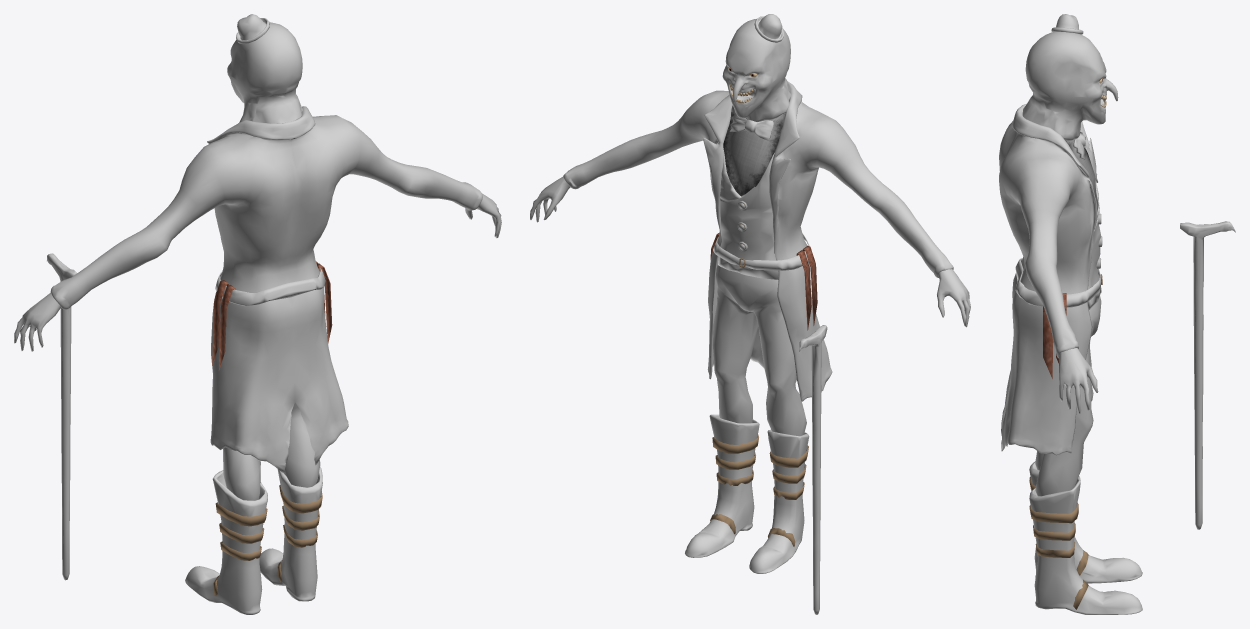
File: SHOWMAKER.obj
3 renders of one model, left to right at view 1: azimuth 30°, elevation 25°; view 2: azimuth 150°, elevation 25°; view 3: azimuth 270°, elevation 25°, orthographic. The views are drawn at different scales.
Parts seen in each view (by area): view 1: ceket_low.001_mesh.007, kafa_low.001_mesh.018, ayak_low.001_mesh.003, ayak_low.002_mesh.034, pantolon_low.001_mesh.020, baston_low.001_mesh.006, kusak_low.001_mesh.019, deri2.001_Plane.001, el_low.002_mesh.033, deri2.002_Plane.003, sapka_low.001_mesh.024; view 2: ceket_low.001_mesh.007, pantolon_low.001_mesh.020, kafa_low.001_mesh.018, ayak_low.002_mesh.034, yelek1low.001_mesh.028, ayak_low.001_mesh.003, iç_low.001_mesh.015, baston_low.001_mesh.006, deri2.002_Plane.003, deri2.001_Plane.001, el_low.002_mesh.033, kusak_low.001_mesh.019 (+3 smaller); view 3: ceket_low.001_mesh.007, kafa_low.001_mesh.018, ayak_low.002_mesh.034, baston_low.001_mesh.006, pantolon_low.001_mesh.020, ayak_low.001_mesh.003, el_low.001_mesh.009, deri2.002_Plane.003, kusak_low.001_mesh.019, yelek1low.001_mesh.028, deri3.001_Cube.009, sapka_low.001_mesh.024 (+1 smaller).
Part boxes in pixels (x1,y1,x2,y2): ceket_low.001_mesh.007: (50,106,482,473); kafa_low.001_mesh.018: (227,22,302,123); ayak_low.001_mesh.003: (185,470,267,614); ayak_low.002_mesh.034: (259,466,322,601); pantolon_low.001_mesh.020: (223,402,320,500); baston_low.001_mesh.006: (47,253,76,580); kusak_low.001_mesh.019: (215,268,325,305); deri2.001_Plane.001: (213,502,267,595); el_low.002_mesh.033: (14,292,60,351); deri2.002_Plane.003: (277,485,322,582); sapka_low.001_mesh.024: (236,14,269,43); ceket_low.001_mesh.007: (563,81,953,401); pantolon_low.001_mesh.020: (713,265,806,436); kafa_low.001_mesh.018: (722,19,791,121); ayak_low.002_mesh.034: (685,414,759,557); yelek1low.001_mesh.028: (718,153,778,279); ayak_low.001_mesh.003: (749,429,809,573); iç_low.001_mesh.015: (723,105,785,195); baston_low.001_mesh.006: (799,325,827,614); deri2.002_Plane.003: (710,434,758,534); deri2.001_Plane.001: (768,445,808,546); el_low.002_mesh.033: (937,269,970,327); kusak_low.001_mesh.019: (713,233,809,270); ceket_low.001_mesh.007: (999,103,1096,455); kafa_low.001_mesh.018: (1022,31,1118,141); ayak_low.002_mesh.034: (1029,476,1142,614); baston_low.001_mesh.006: (1180,221,1235,529); pantolon_low.001_mesh.020: (1035,296,1101,496); ayak_low.001_mesh.003: (1029,461,1142,583); el_low.001_mesh.009: (1059,348,1098,413); deri2.002_Plane.003: (1029,502,1088,609); kusak_low.001_mesh.019: (1015,258,1101,307); yelek1low.001_mesh.028: (1085,147,1101,309); deri3.001_Cube.009: (1043,305,1053,378); sapka_low.001_mesh.024: (1051,14,1083,34).
Bounding box in the file's own units: 30.34 × 35.22 × 13.23.
